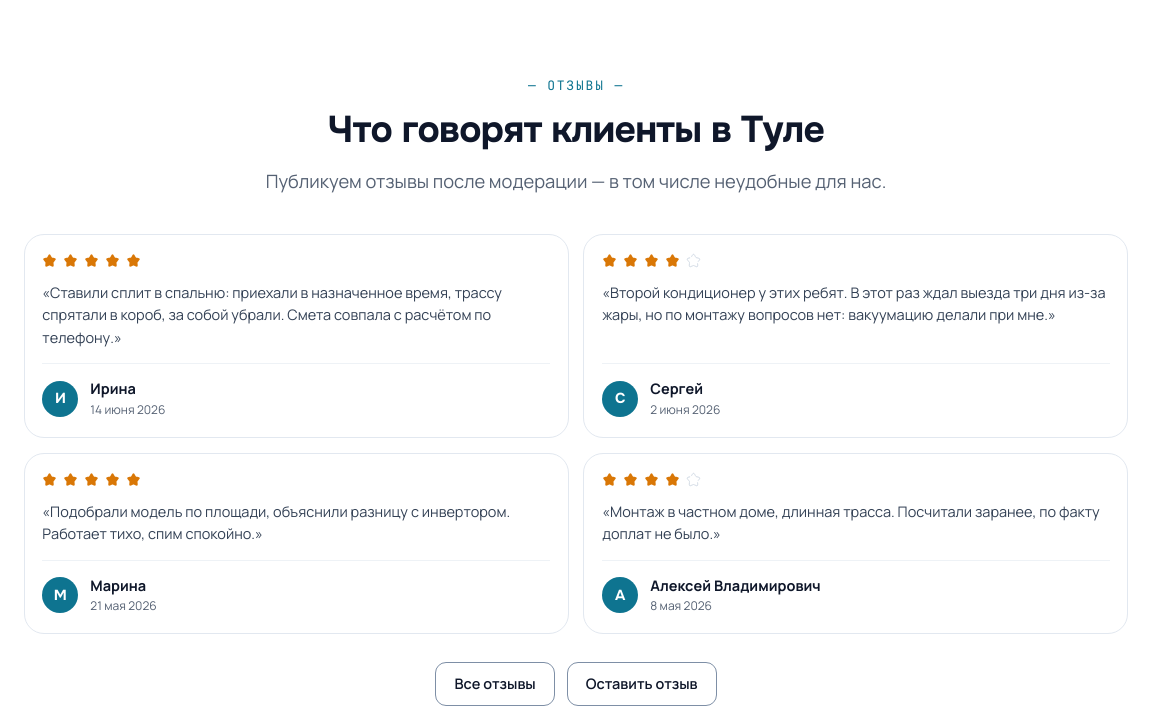
Test: Блок отзывов › 🔴 «Все отзывы» снимает ограничение показа, а не догружает
The width and height of the screenshot is (1152, 710).
Click the button "Все отзывы" at (495, 684), box [435, 662, 555, 706]
(page scrolled)
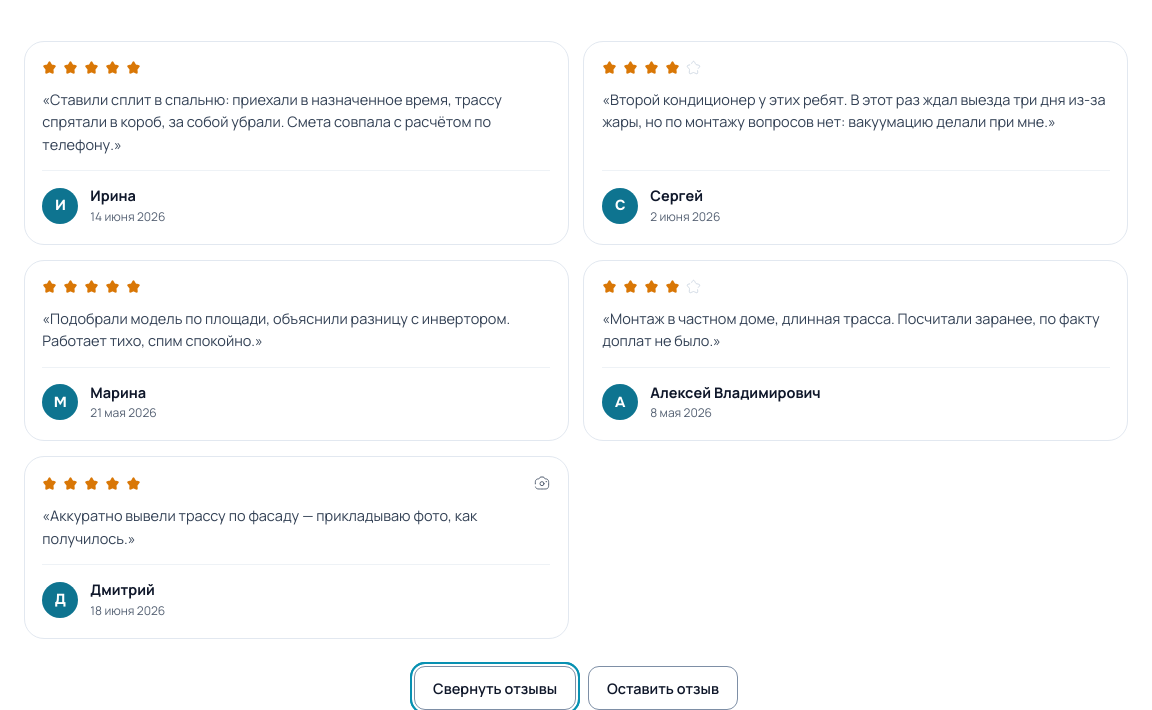
Now the button "Свернуть отзывы" is expanded, box [414, 666, 576, 709]
